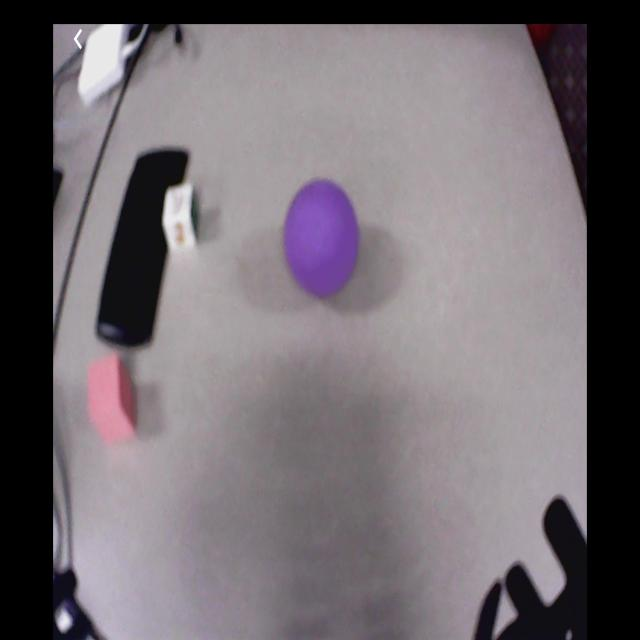ball: (287, 179, 360, 296)
